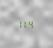four: (29, 20, 33, 28)
one: (18, 20, 22, 28), (24, 20, 28, 28)
